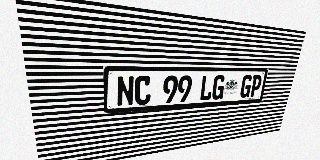9: (162, 75, 179, 103), (177, 75, 193, 102)
C: (134, 76, 152, 105)
G: (211, 75, 226, 100), (239, 75, 253, 98)
L: (199, 75, 214, 101)
N: (116, 76, 134, 107)
P: (249, 75, 263, 97)
